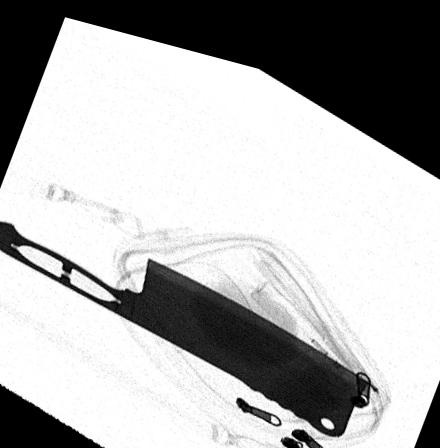Knife: (0, 220, 368, 421)
